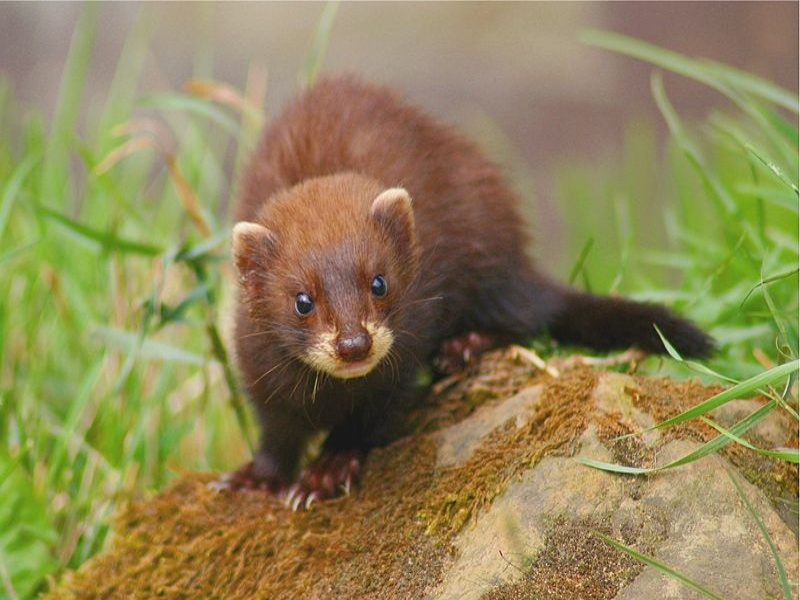minkish: (212, 73, 723, 514)
